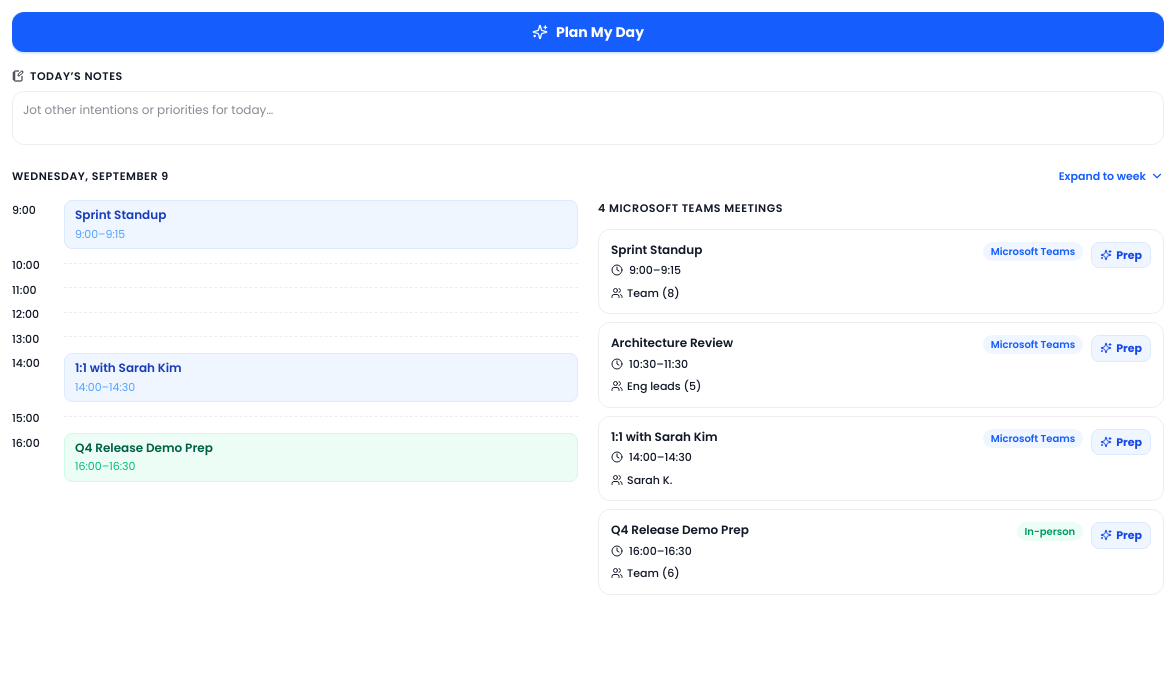
Test: CalendarWidget — meeting prep › reveals gathered docs, a summary, and talking points when Prep is opened
The width and height of the screenshot is (1176, 676).
Click the 1st button "Prep" at (1121, 255), box x1=1091 y1=242 x2=1151 y2=268
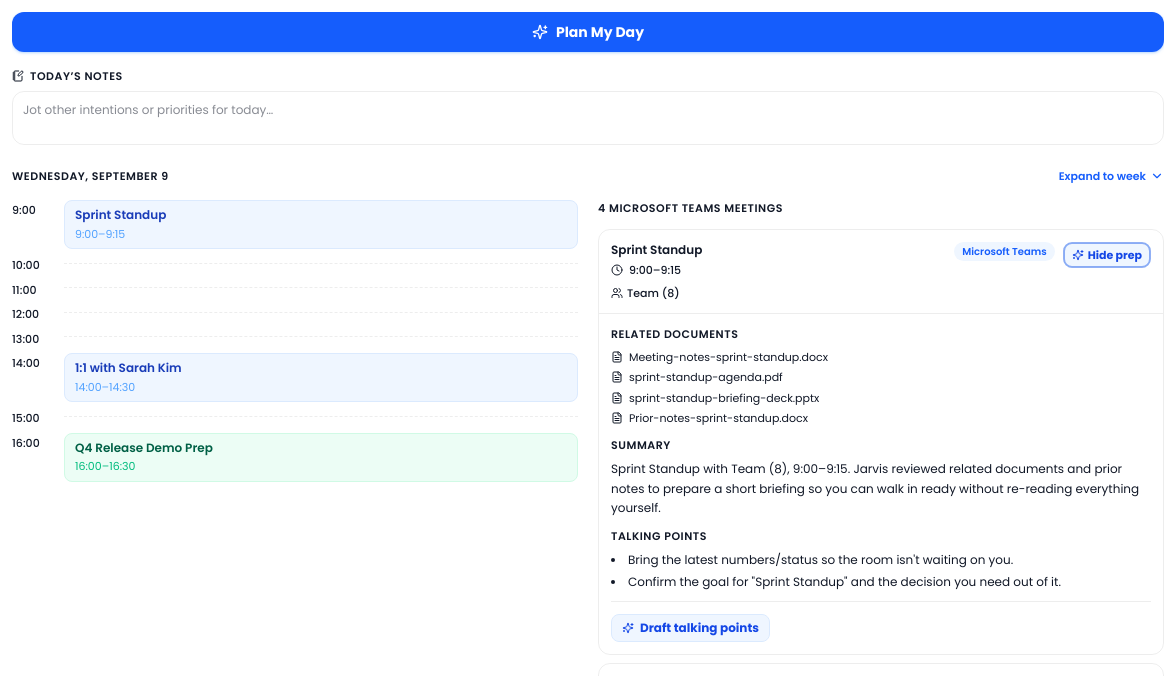
Check: the text "Related documents" is shown, box x1=611 y1=326 x2=738 y2=342
Check: the text "Summary" is shown, box x1=611 y1=436 x2=671 y2=452
Check: the text "Talking points" is shown, box x1=611 y1=528 x2=707 y2=544
